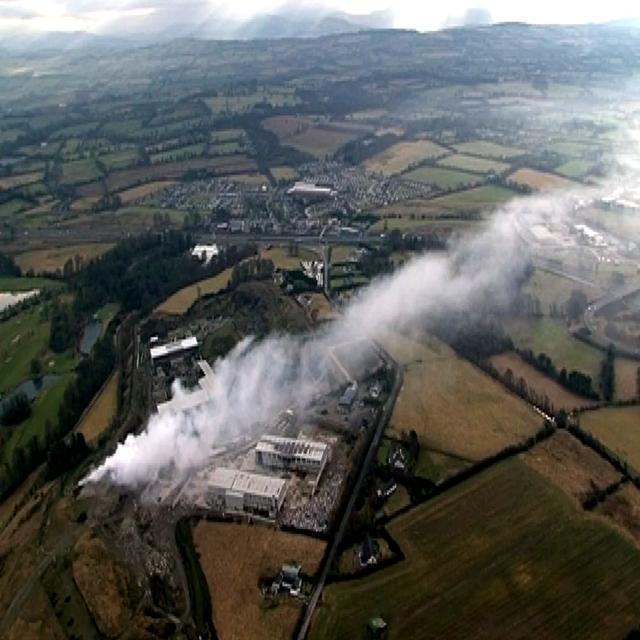Smoke: (116, 294, 372, 503), (364, 174, 588, 406)
